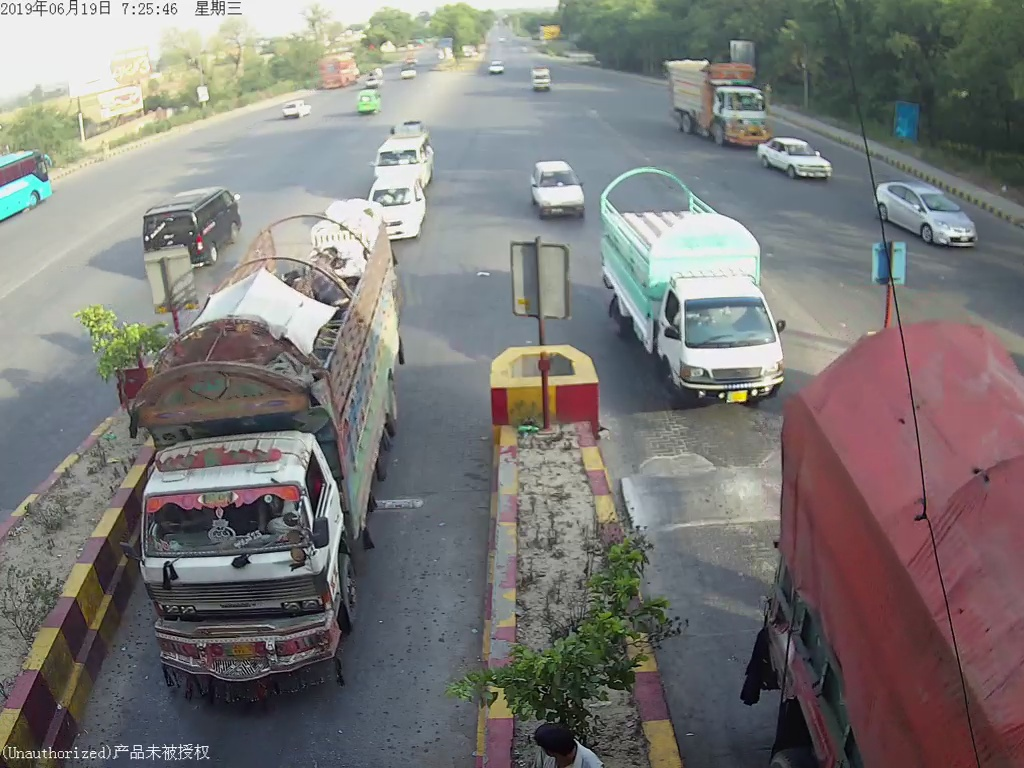Cat-1: (524, 150, 586, 219), (372, 174, 424, 226)
Cat-2: (603, 160, 793, 412)
Cat-4: (133, 293, 409, 688)
